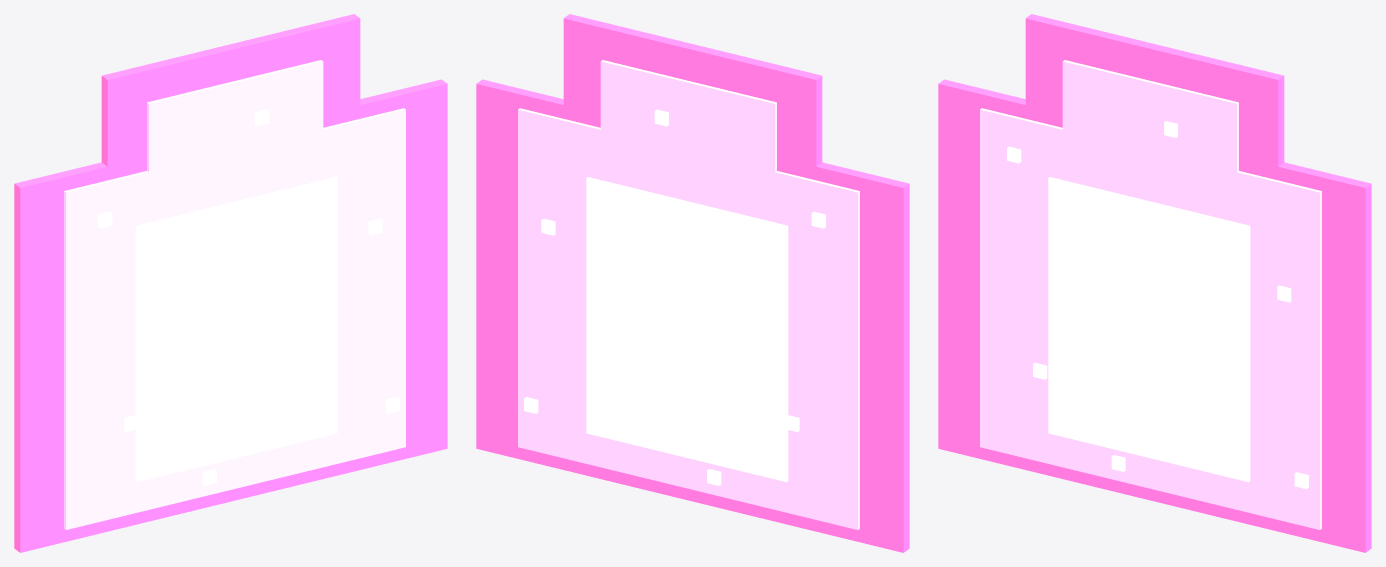
The model's file is th-portal-pink.glb.
3 renders of one model, left to right at view 1: azimuth 30°, elevation 25°; view 2: azimuth 150°, elevation 25°; view 3: azimuth 330°, elevation 25°, orthographic.
Parts seen in each view (by area): view 1: box-prop; view 2: box-prop; view 3: box-prop.
Boxes of the visible parts, bbox=[...] form: box-prop: bbox=[14, 14, 447, 552]; box-prop: bbox=[476, 14, 909, 552]; box-prop: bbox=[938, 14, 1371, 552].
Size of the model in its own units: 4.9 by 4.95 by 0.34.
